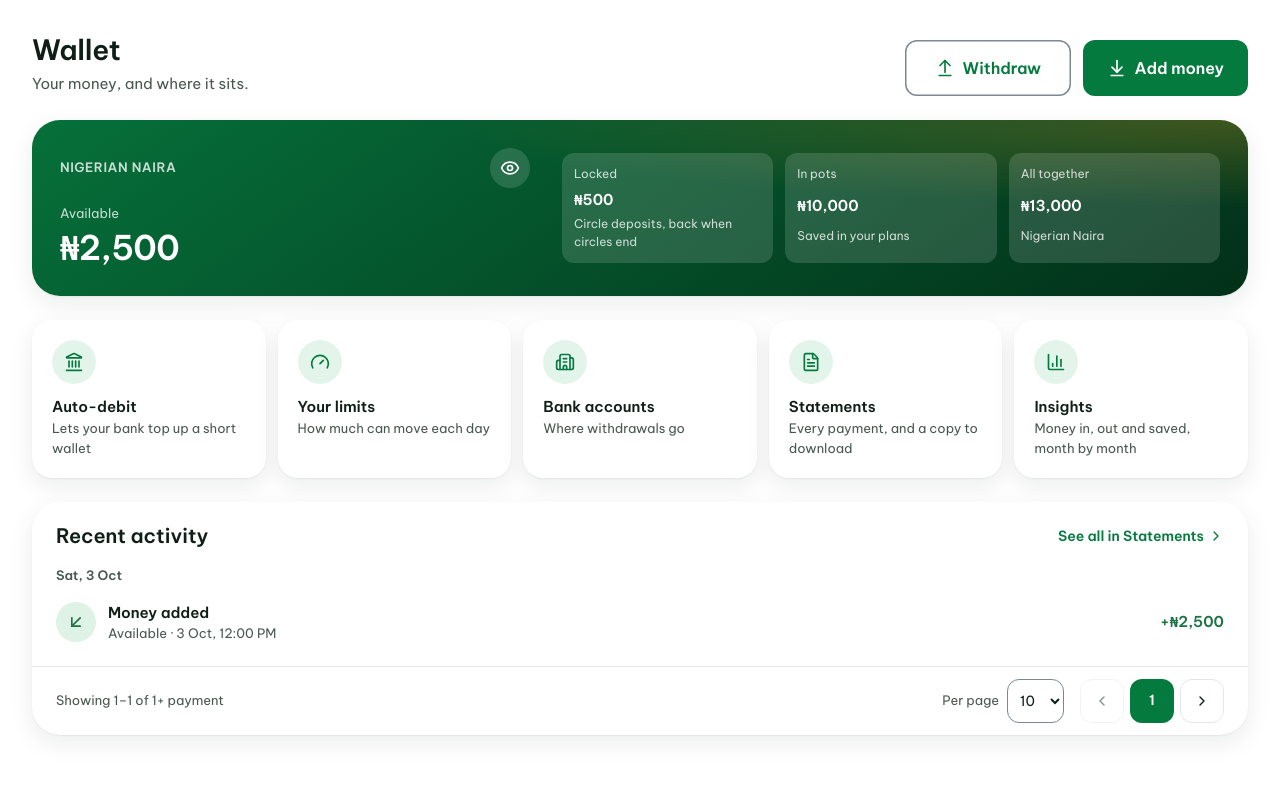
WalletScreen › loads the next page only when asked, and stops offering it at the end
This screenshot has width=1280, height=800.
Click the button named "Next page": [1202, 700] box x1=1180 y1=678 x2=1224 y2=722
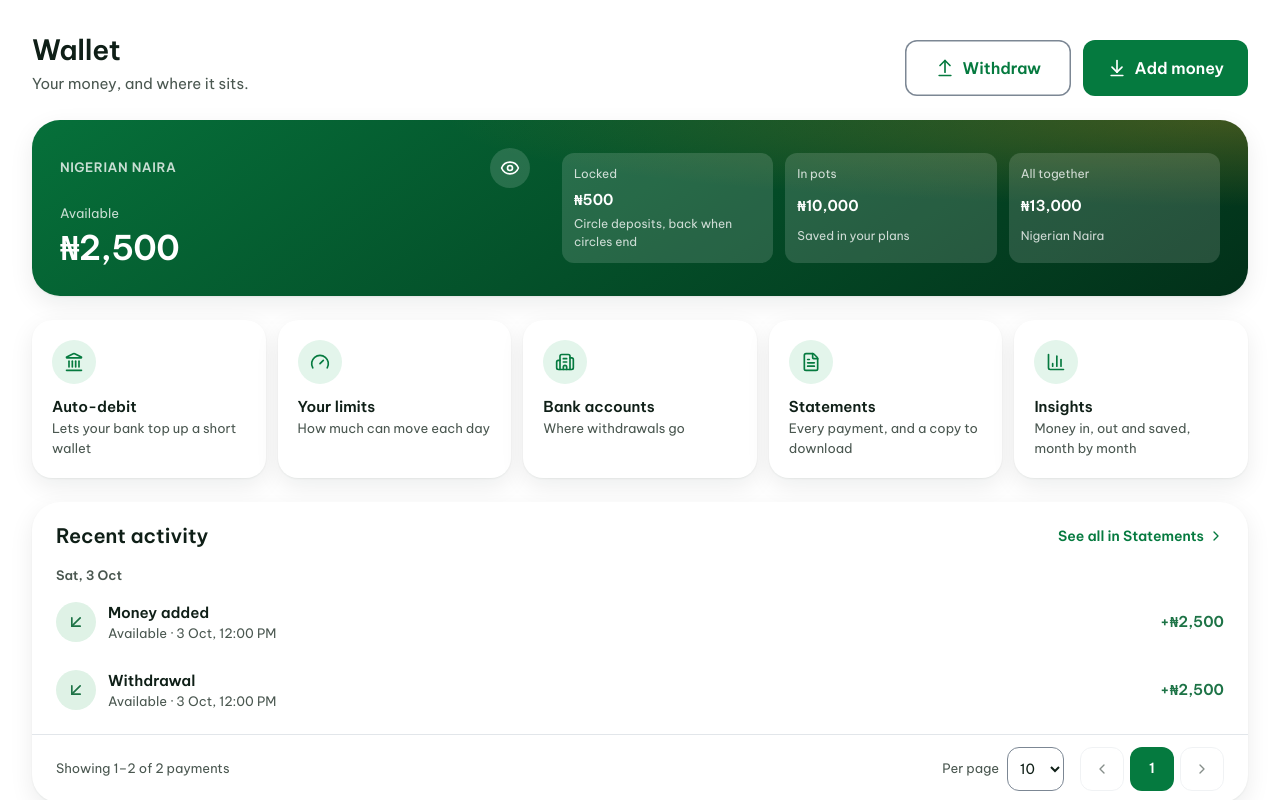
expect the button named "Next page" is disabled: met, box x1=1180 y1=746 x2=1224 y2=790
expect the number of list items is 2: met, box x1=48 y1=590 x2=1232 y2=654; x1=48 y1=658 x2=1232 y2=722
